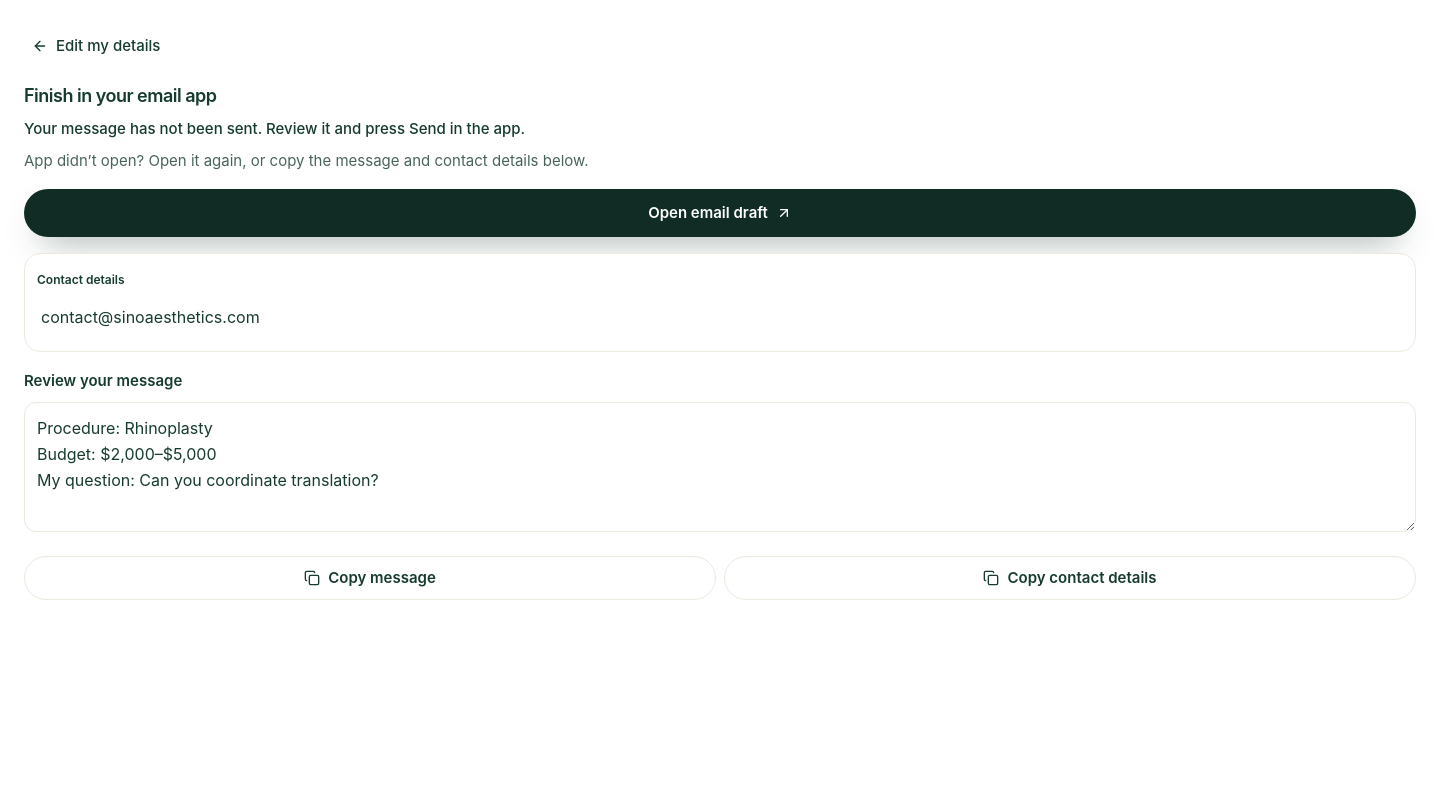
consultation handoff recovery › keeps a visitor's typed question and care-plan details in the draft, retry link and copied message
Later steps or results of the test are not shown.
Click the button "Copy message". click: click(370, 578)
box: [24, 556, 716, 600]
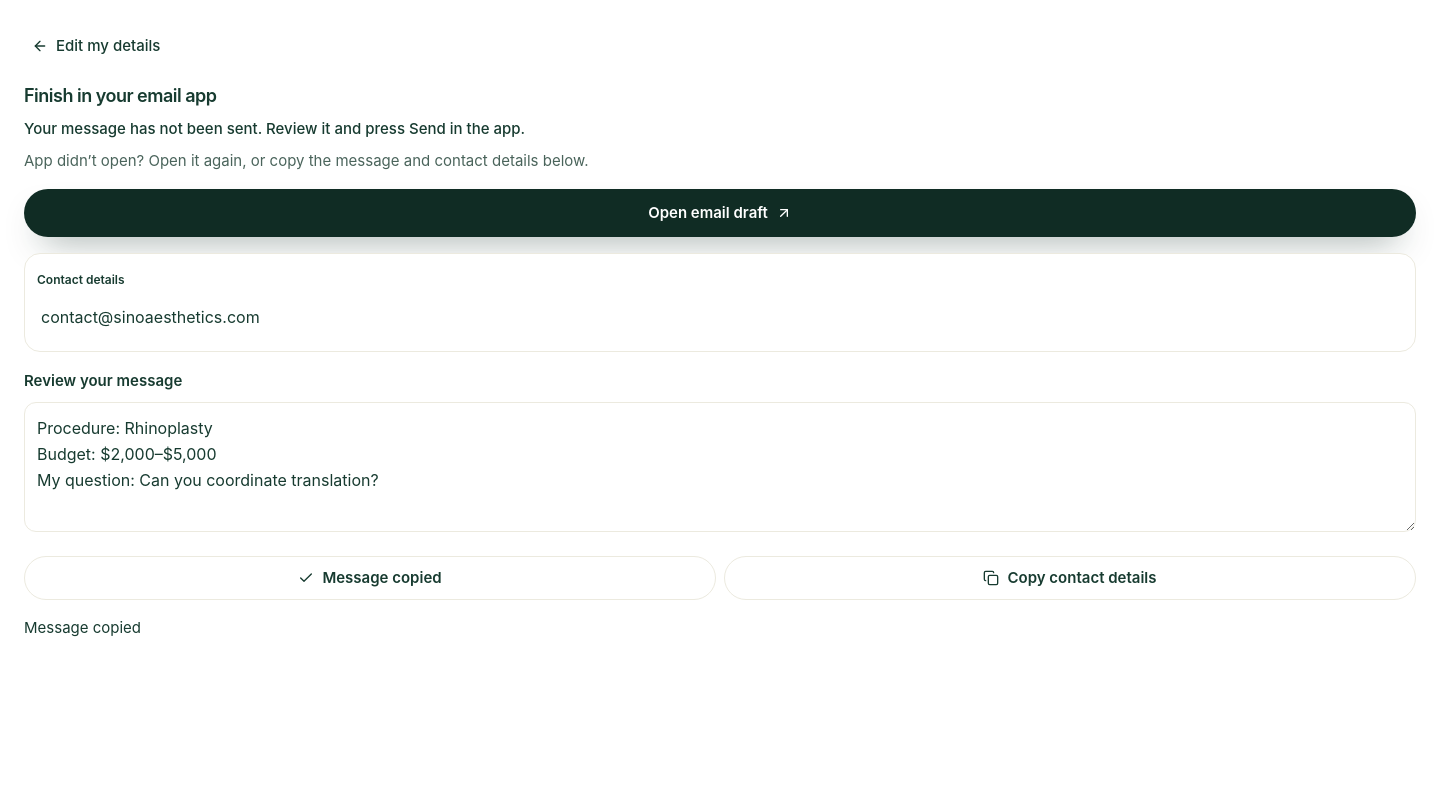
Result: the button "Message copied" is shown at [24, 556, 716, 600]
